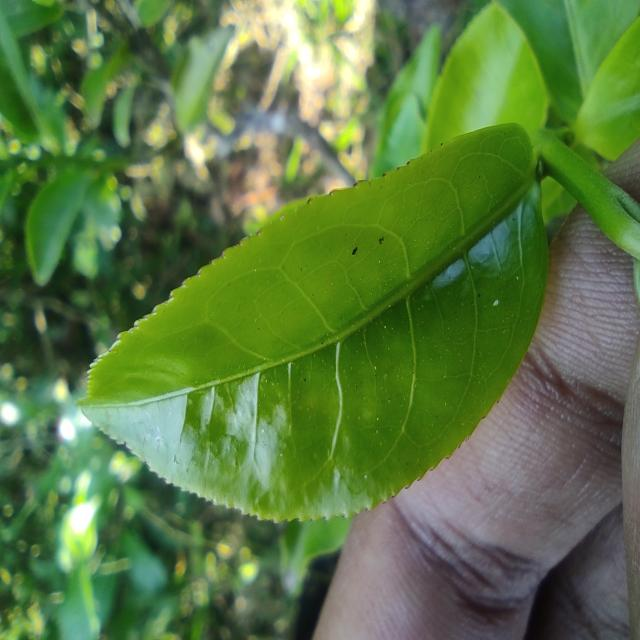Category C(4-7 days): (35, 103, 568, 531)
